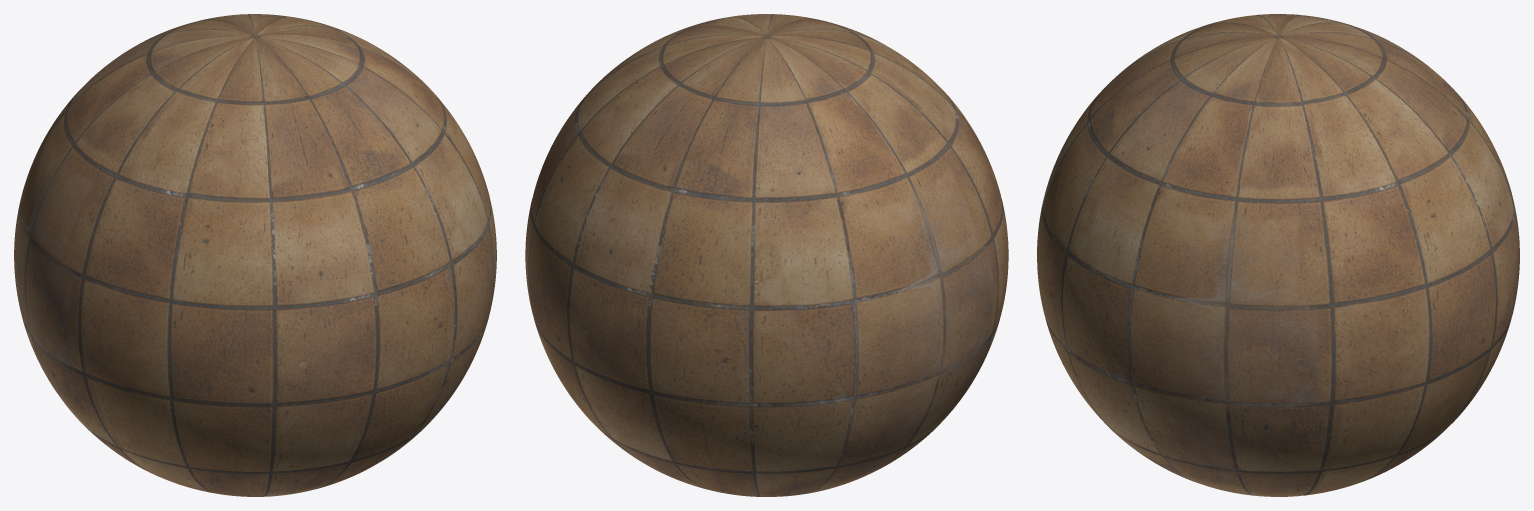
Rendered from brown_floor_tiles_2k.gltf.
3 views of the same model, side by side, from view 1: azimuth 30°, elevation 25°; view 2: azimuth 150°, elevation 25°; view 3: azimuth 270°, elevation 25° (orthographic).
Parts seen in each view (by area): view 1: sphere_gltf; view 2: sphere_gltf; view 3: sphere_gltf.
Boxes of the visible parts, <box> form: sphere_gltf: <box>14,14,496,496</box>; sphere_gltf: <box>525,14,1008,496</box>; sphere_gltf: <box>1037,14,1519,496</box>.
Size of the model in its own units: 1.71 by 1.71 by 1.71.
Materials: 1 (1 with a texture image).
